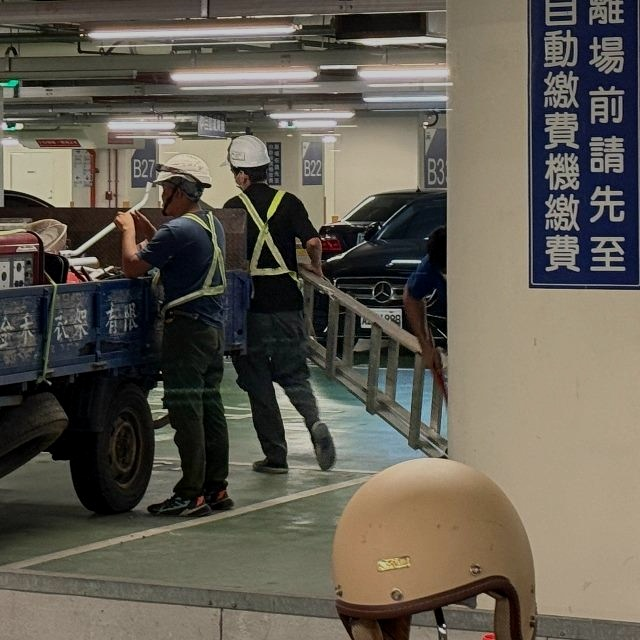Con_Casco: (148, 152, 212, 209), (217, 136, 273, 182)
Con_Chaleco: (225, 188, 308, 307), (157, 210, 226, 329)
